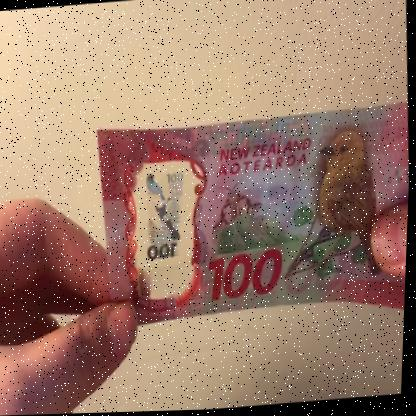100B: (139, 167, 194, 284)
